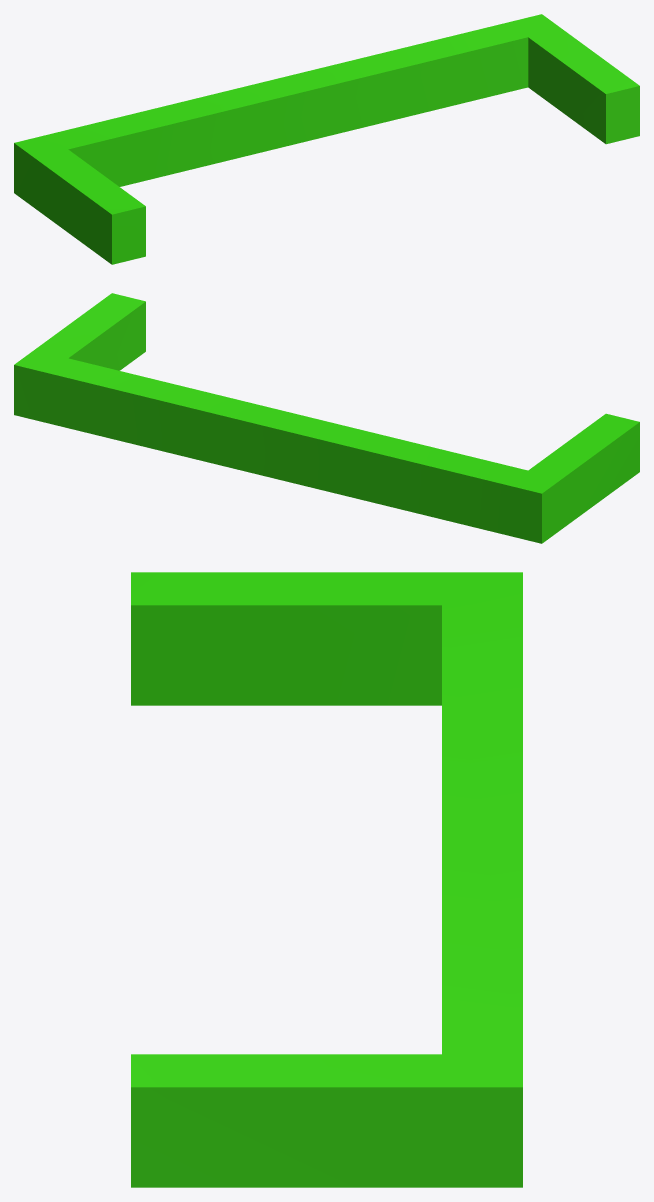
Rendered from bush 2.fbx.
The picture shows the model from 3 angles, top to bottom: view 1: azimuth 30°, elevation 25°; view 2: azimuth 150°, elevation 25°; view 3: azimuth 270°, elevation 25°; orthographic projection. The views are drawn at different scales.
Parts seen in each view (by area): view 1: bush 2; view 2: bush 2; view 3: bush 2.
Boxes of the visible parts, x1,y1,x2,y2 form: bush 2: [14, 14, 639, 264]; bush 2: [14, 293, 639, 543]; bush 2: [131, 572, 522, 1187].
Bounding box in the file's own units: 1053 × 95.64 × 339.
1 material, 1 textured.
